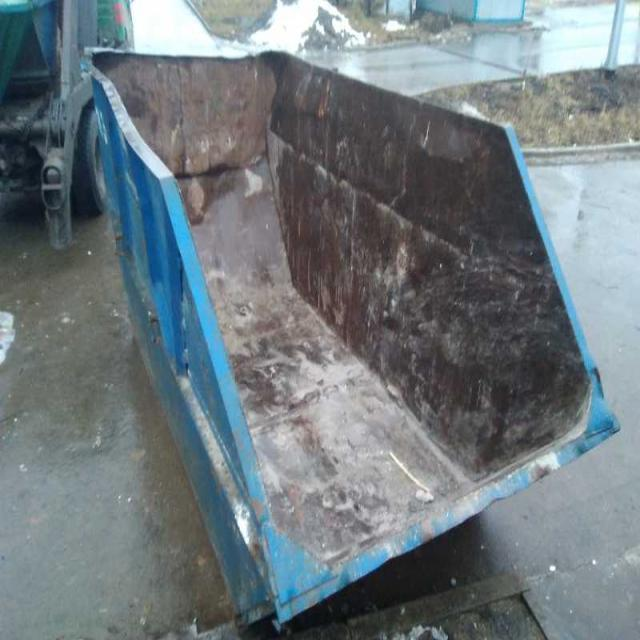Dumpster: (85, 48, 623, 628)
